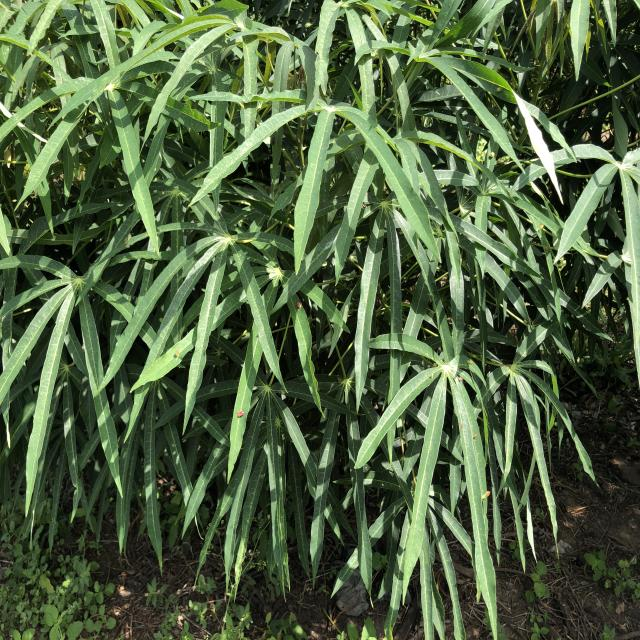Mosca: (476, 486, 492, 505), (173, 343, 188, 359), (237, 408, 250, 426), (293, 295, 308, 310), (470, 431, 488, 442)
